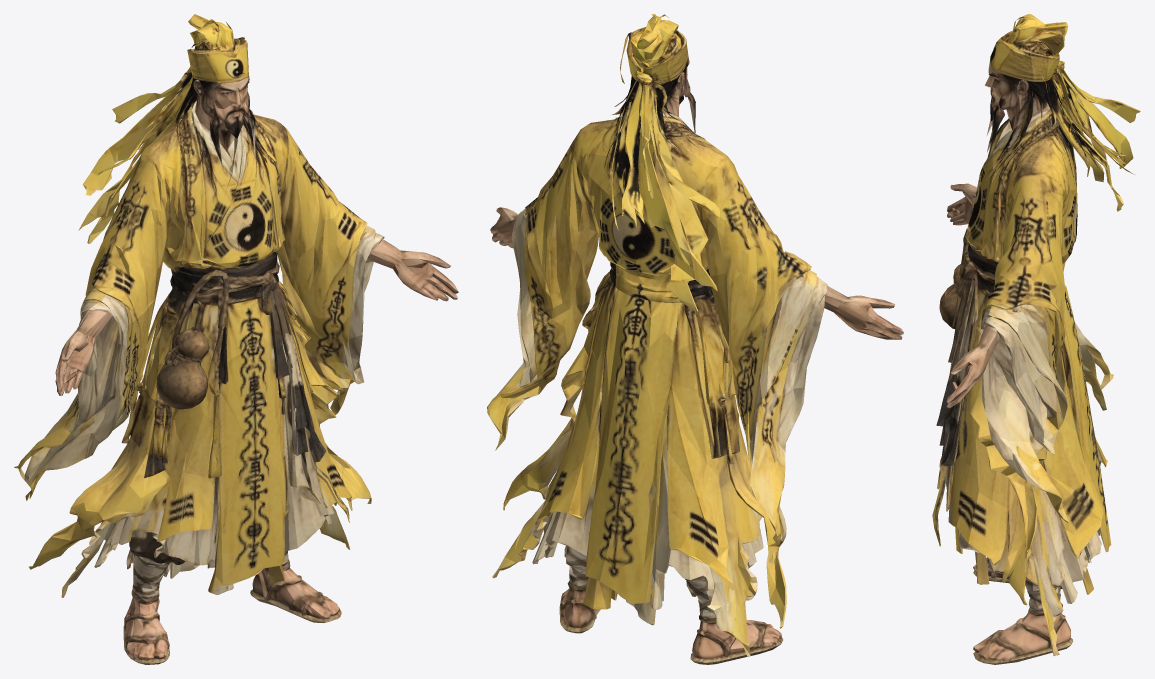
File: glb.glb
3 renders of one model, left to right at view 1: azimuth 30°, elevation 25°; view 2: azimuth 150°, elevation 25°; view 3: azimuth 270°, elevation 25°, orthographic. The views are drawn at different scales.
Bounding box in the file's own units: 1.32 × 1.9 × 0.5989.
Materials: 1 (1 with a texture image).
